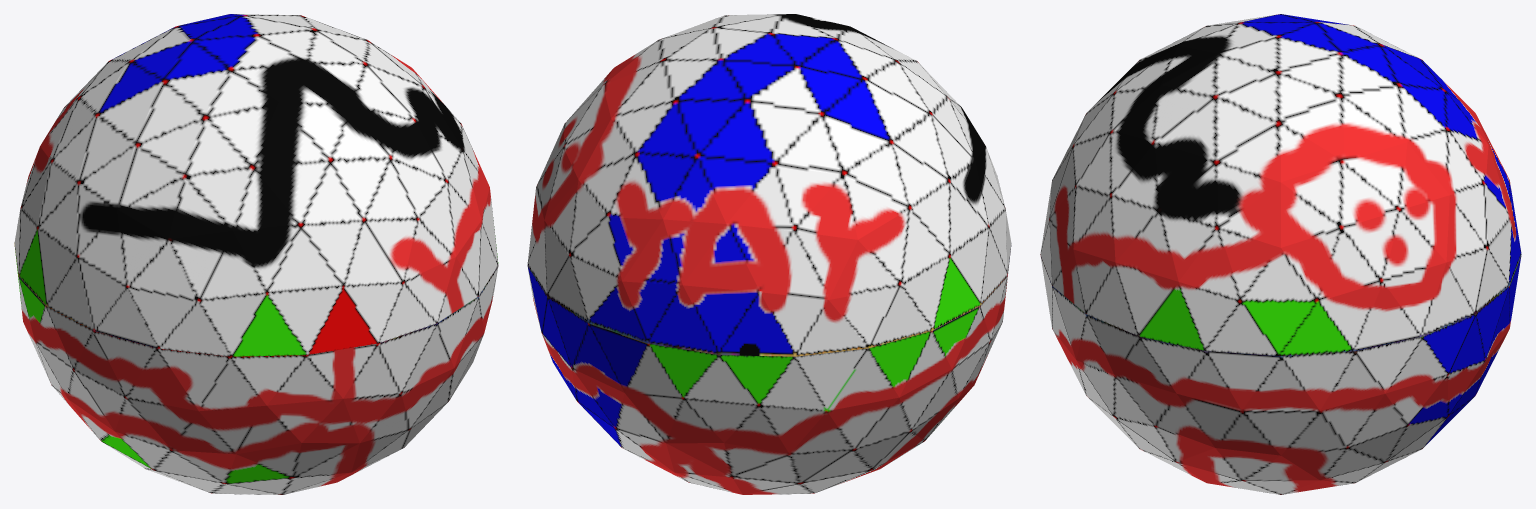
File: unmaptest.dae
3 renders of one model, left to right at view 1: azimuth 30°, elevation 25°; view 2: azimuth 150°, elevation 25°; view 3: azimuth 270°, elevation 25°, orthographic.
Parts seen in each view (by area): view 1: Sphere; view 2: Sphere; view 3: Sphere.
Boxes of the visible parts, <box> form: Sphere: <box>14,14,498,494</box>; Sphere: <box>527,14,1011,494</box>; Sphere: <box>1040,14,1521,494</box>.
Bounding box in the file's own units: 2 × 2 × 2.
